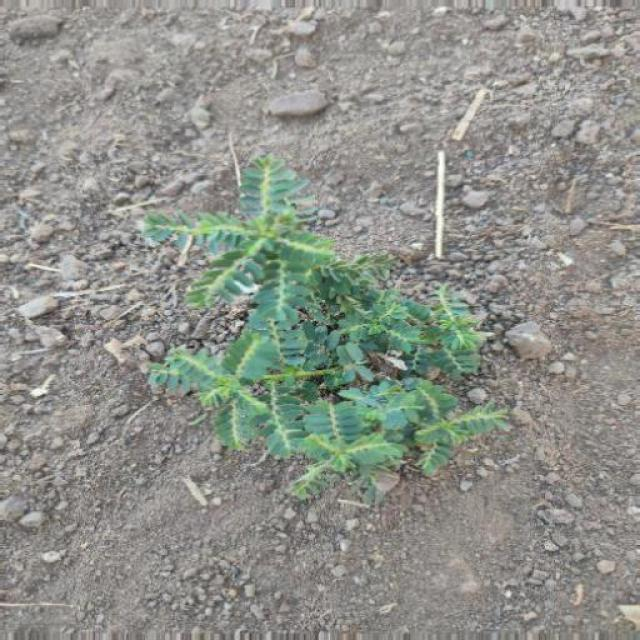weed: (135, 148, 511, 498)
